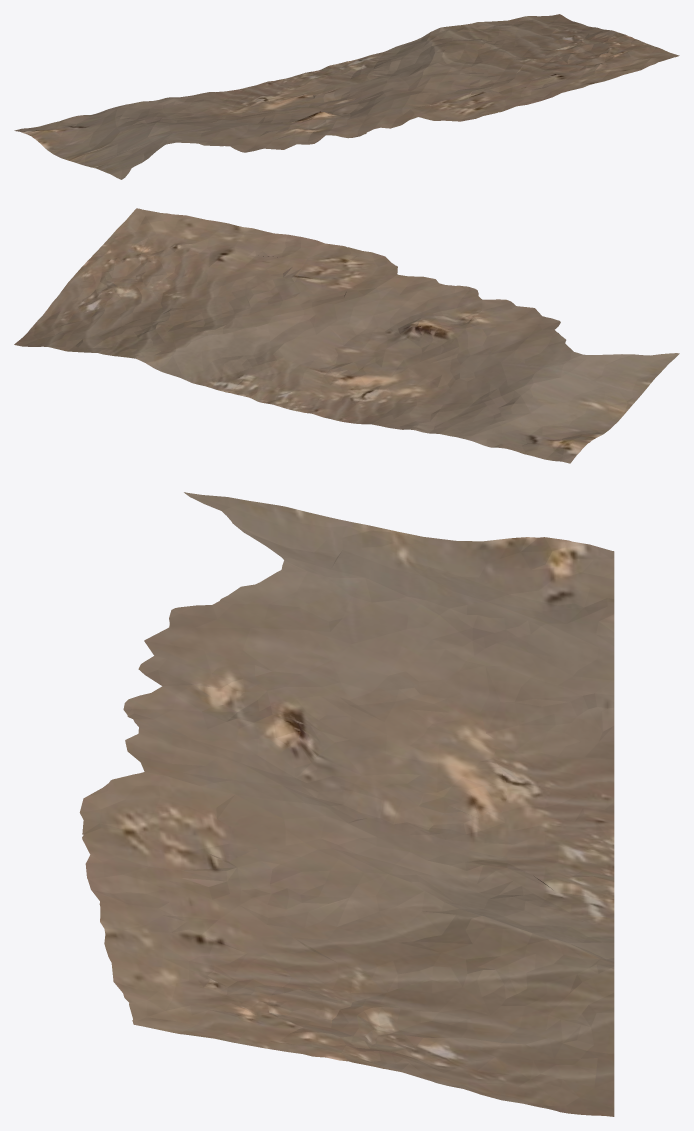
3 renders of one model, top to bottom at view 1: azimuth 30°, elevation 25°; view 2: azimuth 150°, elevation 25°; view 3: azimuth 270°, elevation 25°, orthographic. The views are drawn at different scales.
Size of the model in its own units: 2.09 by 0.1687 by 0.8859.
Materials: 1 (1 with a texture image).
